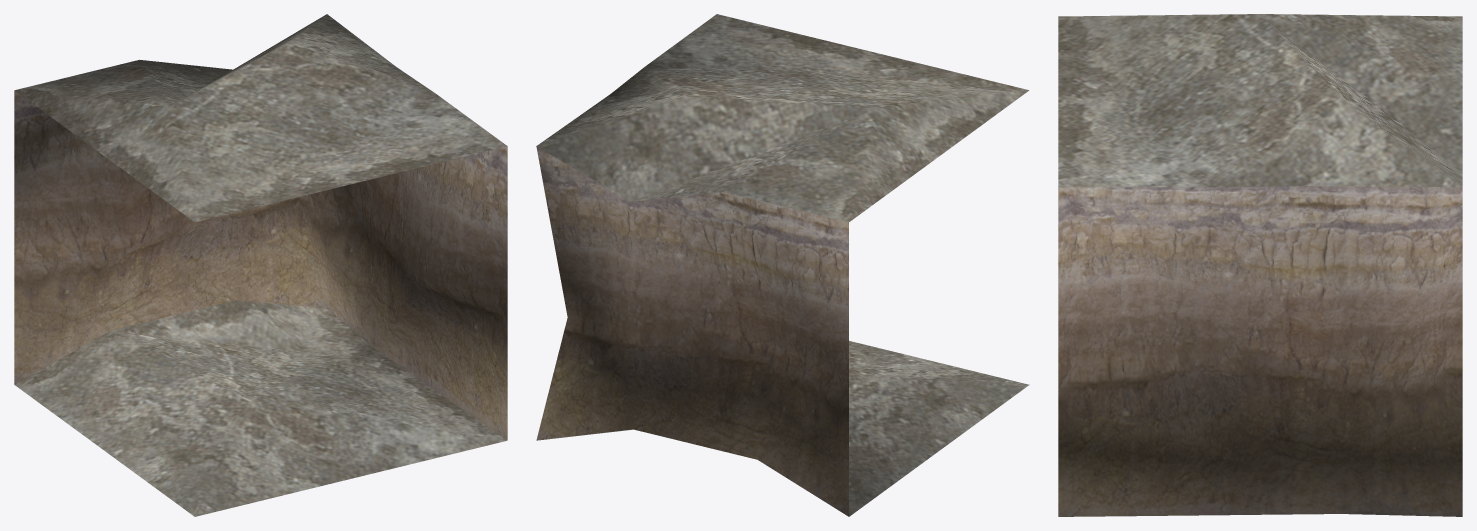
The model's file is cornertileds.obj.
The picture shows the model from 3 angles, left to right: view 1: azimuth 30°, elevation 25°; view 2: azimuth 150°, elevation 25°; view 3: azimuth 270°, elevation 25°; orthographic projection. The views are drawn at different scales.
Visible parts, largest first — view 1: stile003; view 2: stile003; view 3: stile003.
Part boxes in pixels (x1,y1,x2,y2): stile003: (14,14,507,516); stile003: (536,14,1029,516); stile003: (1058,14,1462,516).
Size of the model in its own units: 1 by 1 by 1.
1 material, 1 textured.
